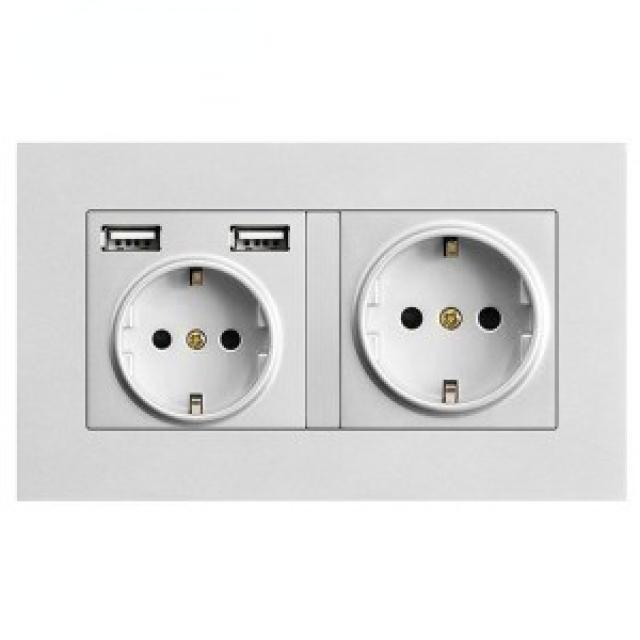typeb: (9, 138, 637, 522)
